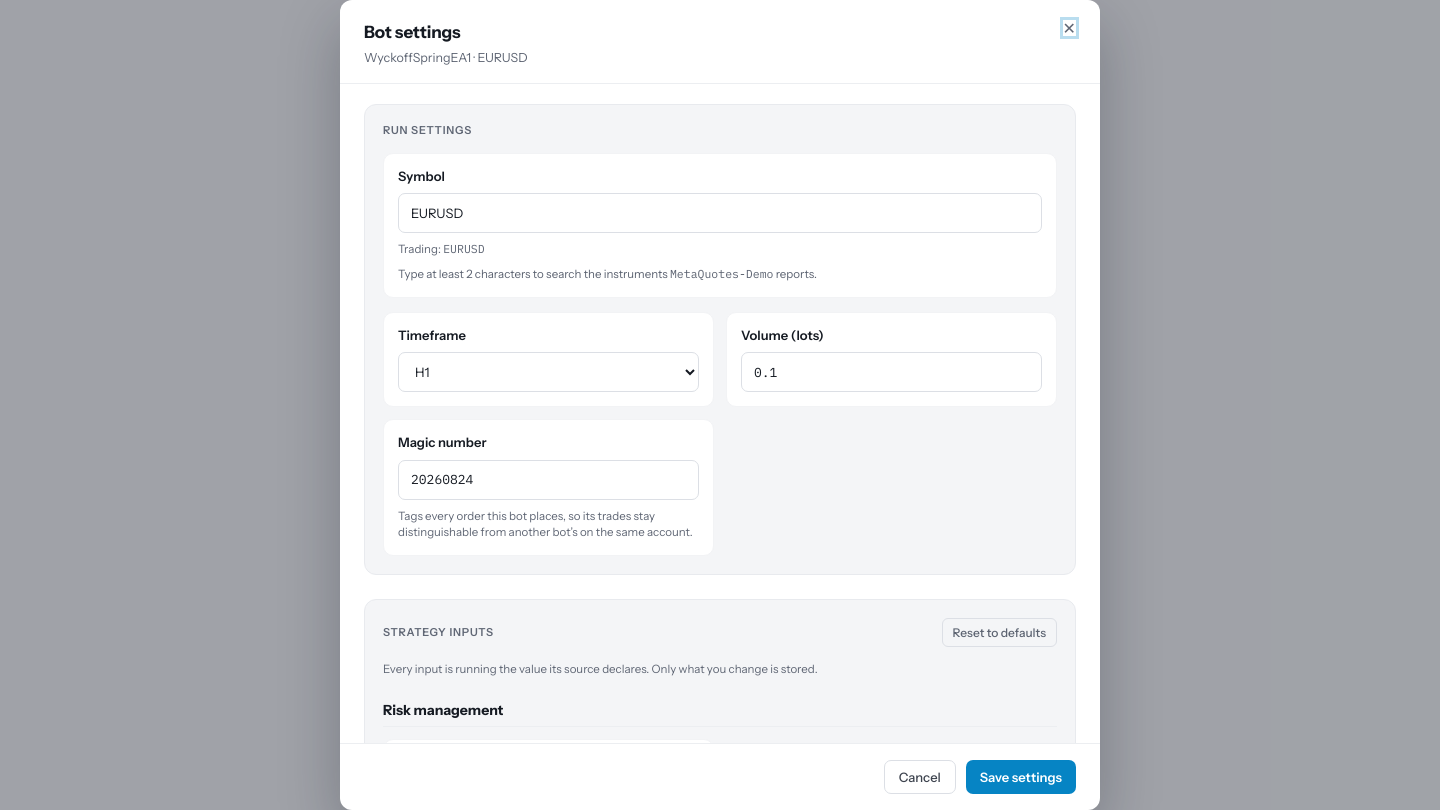
Test: bot settings panel › refuses to save a magic number no terminal could carry
Replace the text in the number field labelled "Magic number" with "-4" at (548, 480), box [398,460,699,500]
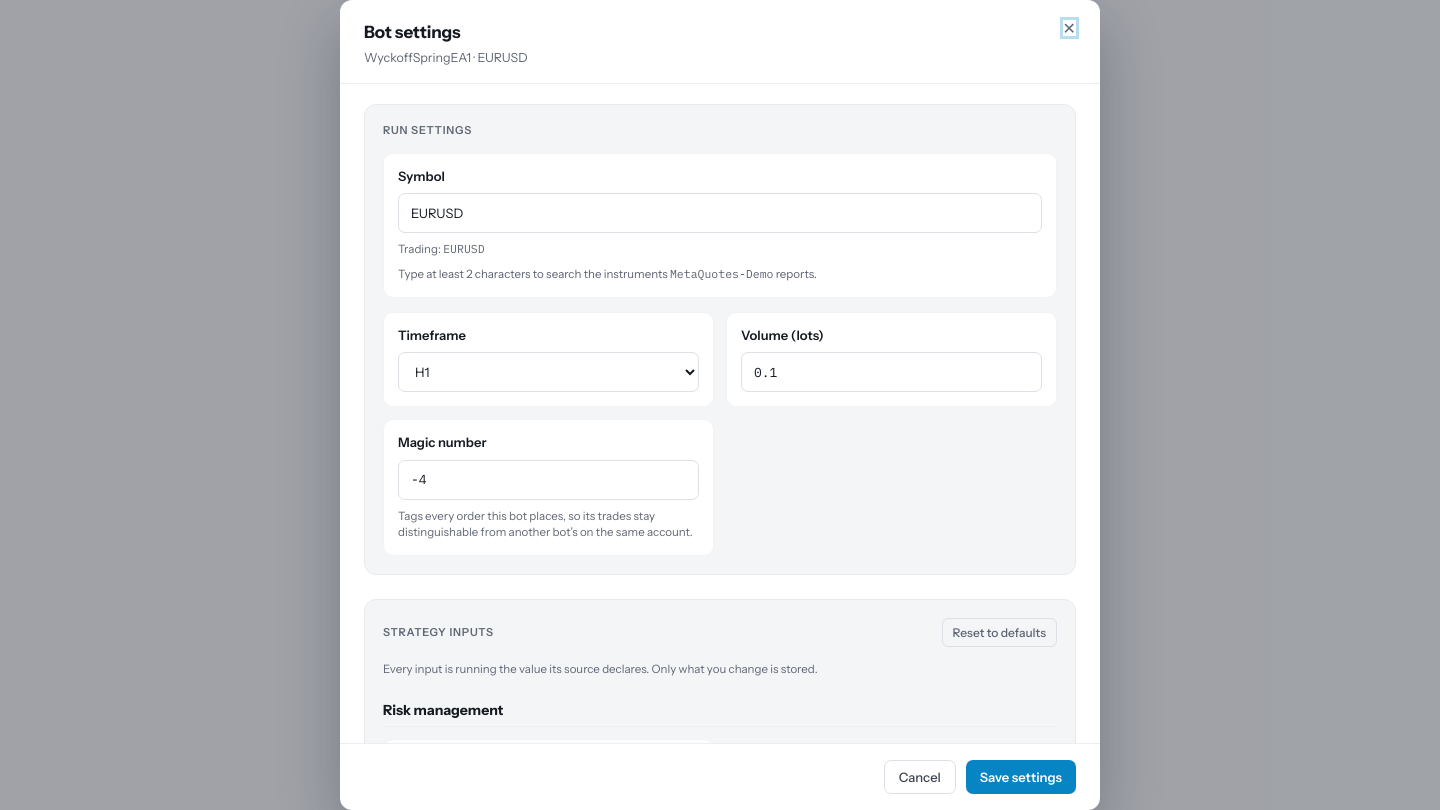
Click the button "Save settings" at (1021, 777), box [966,760,1076,794]
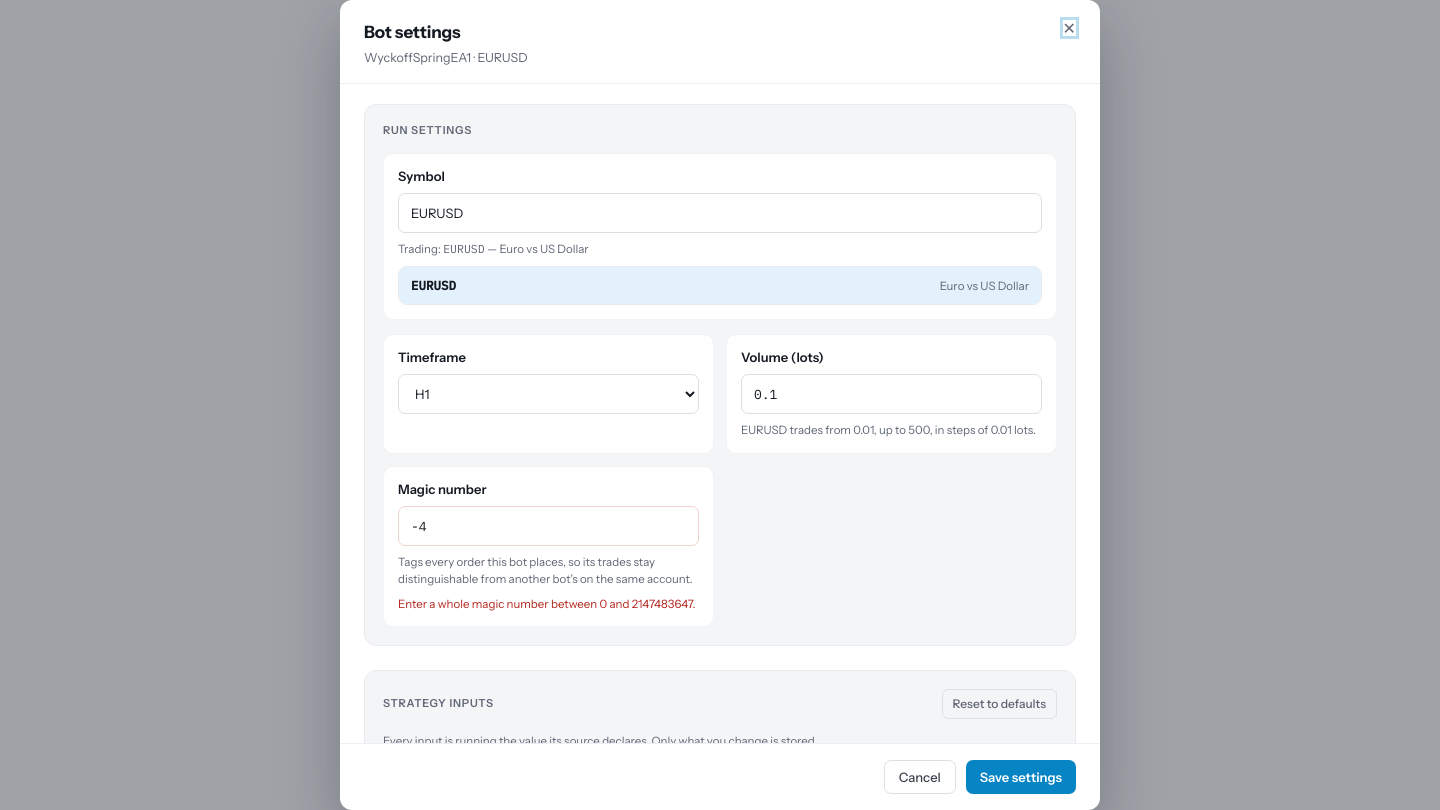
Now the text "Enter a whole magic number between 0 and 2147483647." is shown, box [398,596,699,612]
